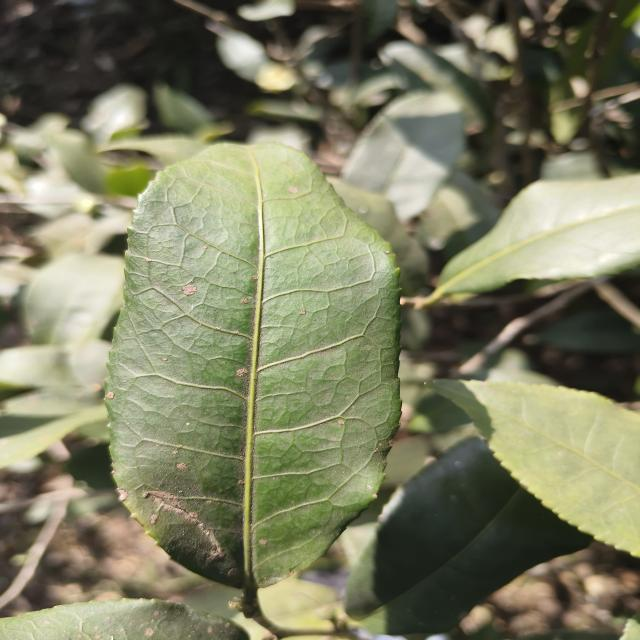Leaf: (105, 143, 401, 610), (344, 437, 590, 635), (434, 380, 640, 557), (427, 175, 640, 302), (341, 90, 464, 221), (22, 253, 124, 346), (418, 171, 500, 259), (537, 308, 640, 354)
